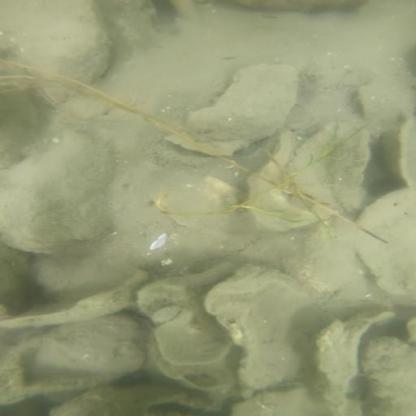Oyster-Closed: (200, 263, 315, 391), (0, 131, 115, 254), (164, 59, 299, 156), (14, 1, 111, 109), (137, 259, 244, 330), (32, 313, 150, 373), (363, 337, 416, 416)
